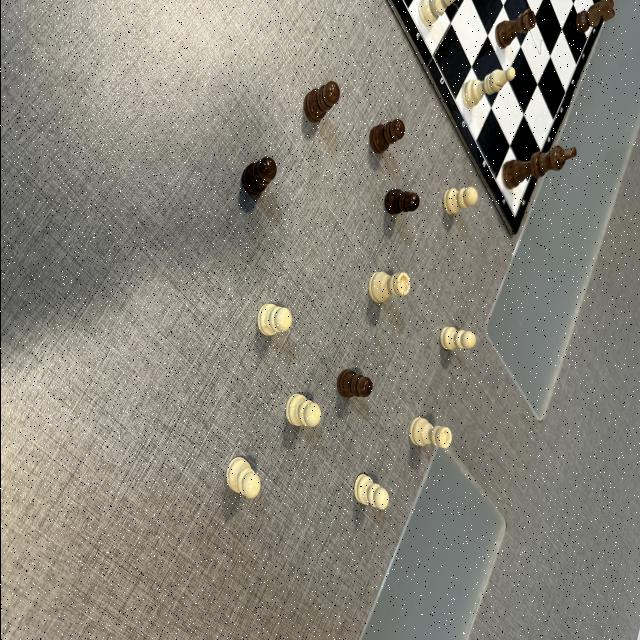Black-King: (502, 146, 576, 190)
Black-Knight: (576, 0, 614, 33)
Black-Pawn: (303, 81, 338, 123), (242, 157, 276, 193), (368, 119, 404, 152), (384, 188, 418, 216), (337, 371, 372, 398)
Black-Rook: (494, 9, 534, 49)
White-Bishop: (462, 68, 514, 108)
White-Knight: (419, 0, 457, 26)
White-Pawn: (224, 454, 260, 499), (352, 474, 388, 509), (284, 394, 320, 428), (256, 304, 292, 336), (438, 326, 474, 351), (443, 188, 476, 215)
White-Rook: (368, 272, 410, 304), (408, 418, 452, 448)
